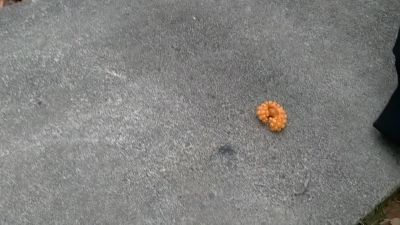eggs: (256, 99, 288, 133)
